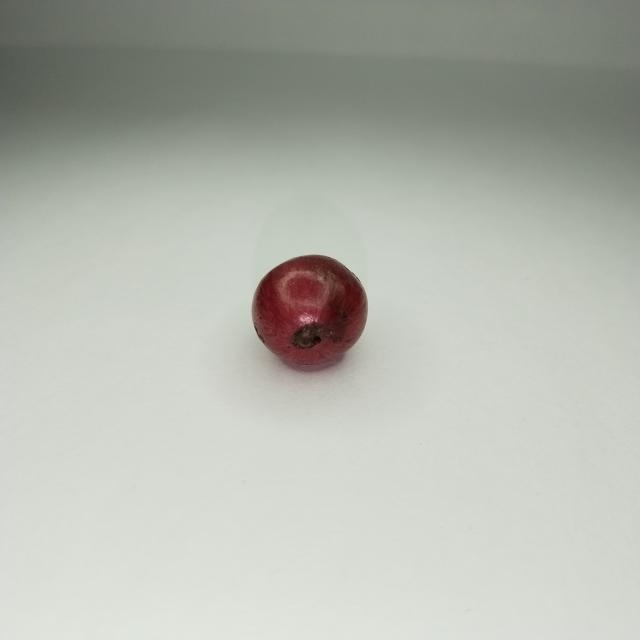Infectado: (253, 256, 368, 365)
